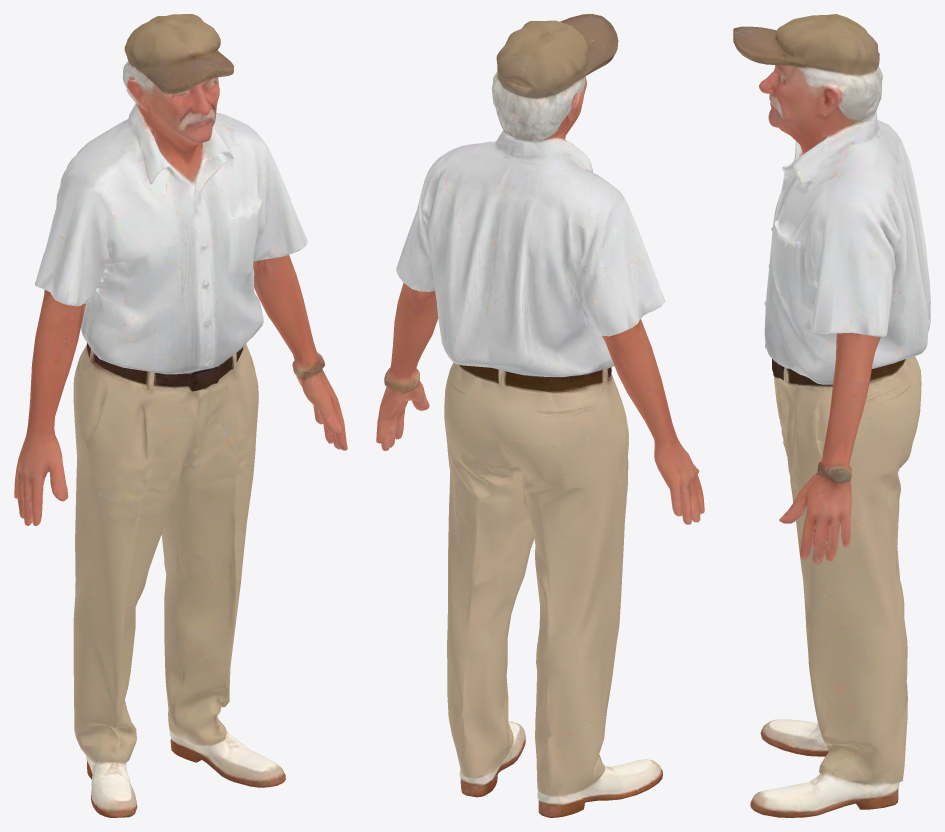
The model's file is retiree.glb.
The picture shows the model from 3 angles, left to right: view 1: azimuth 30°, elevation 25°; view 2: azimuth 150°, elevation 25°; view 3: azimuth 270°, elevation 25°; orthographic projection.
Size of the model in its own units: 0.8282 by 1.9 by 0.4461.
Materials: 1 (1 with a texture image).
